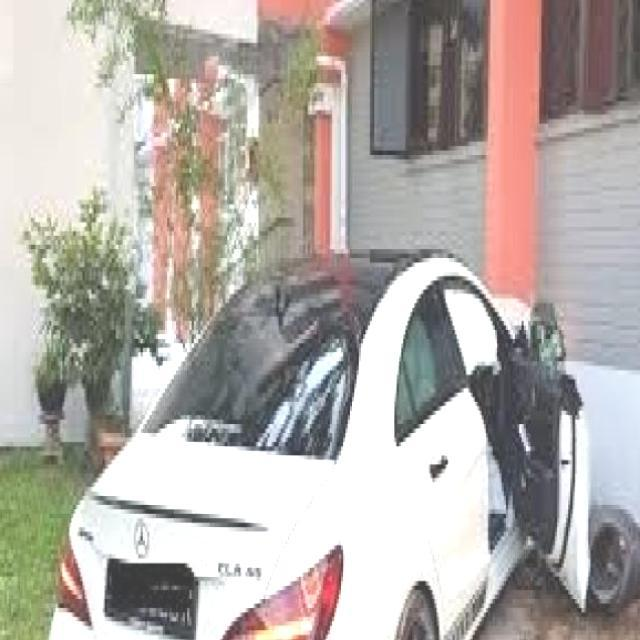accident: (424, 233, 640, 616)
